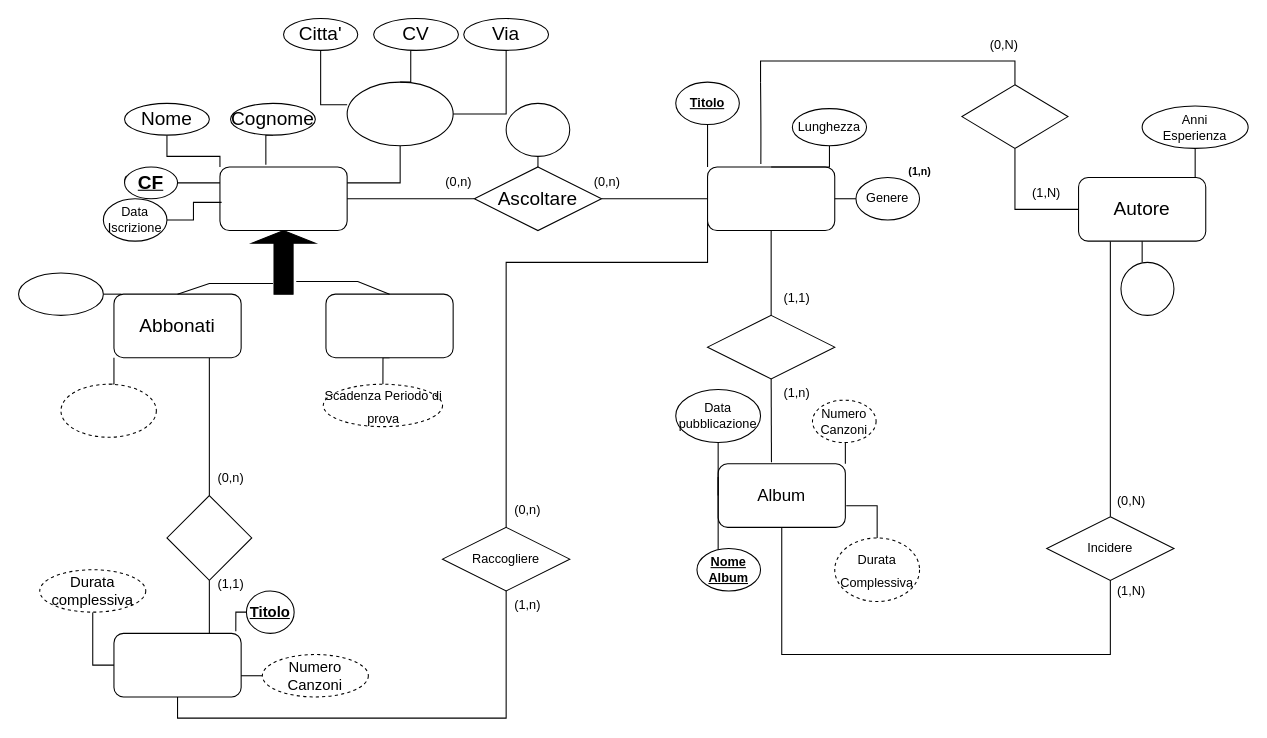
Some shapes in this 1267 by 738 pixel diagram are drawn without their labels. Each missing label, with the box of its shape:
Appartenere: (706, 314, 835, 379)
Canzone: (706, 166, 835, 231)
Comporre: (961, 84, 1068, 148)
Creare: (166, 494, 252, 580)
Free: (325, 293, 453, 358)
Indirizzo Fatturarzione: (346, 81, 453, 146)
Nome d'arte: (1120, 261, 1174, 315)
Ora ultimo ascolto: (505, 102, 570, 156)
Playlist: (113, 632, 241, 697)
Scadenza Abbonamento: (60, 383, 156, 437)
Tipo Abbonamento: (17, 272, 103, 315)
Utenti: (219, 166, 347, 231)
